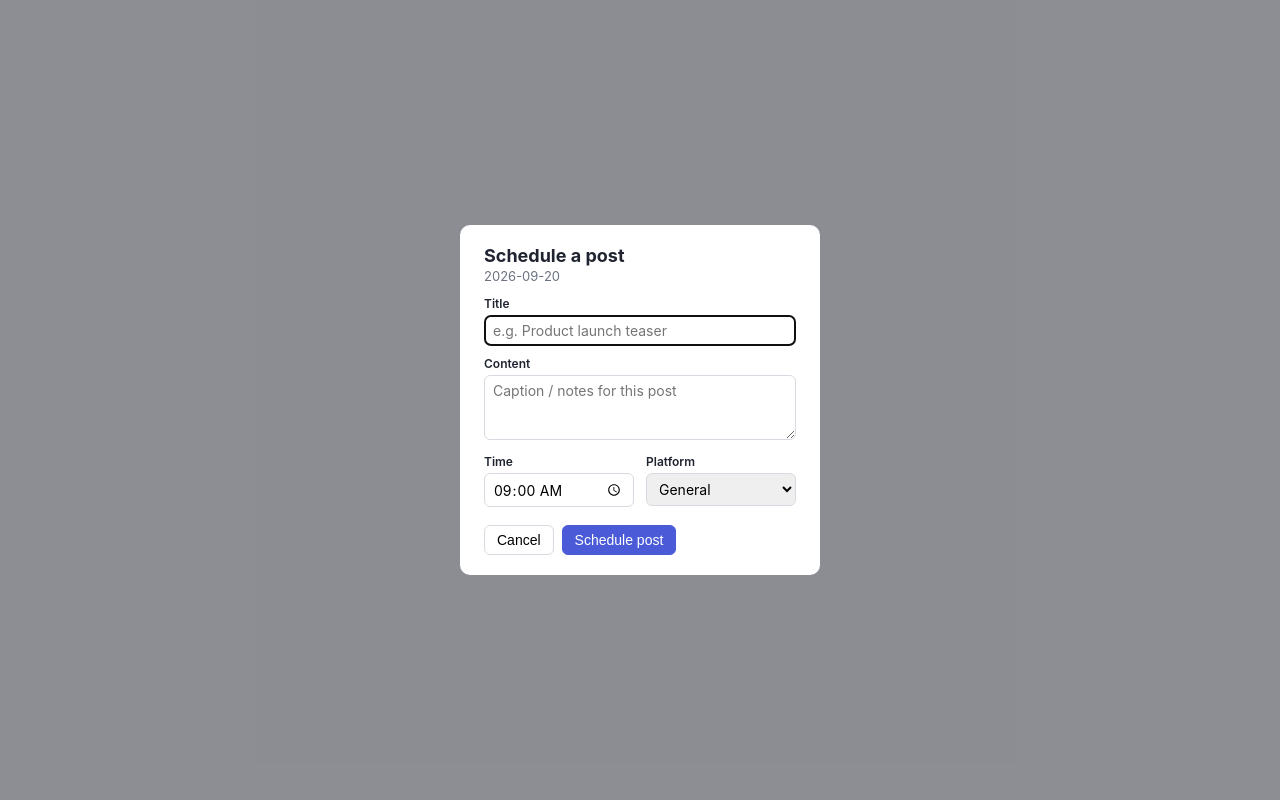
Test case: blocks submission and shows an error when the title is empty
Click the button "Schedule post". click: [619, 540]
box: [562,525,676,555]
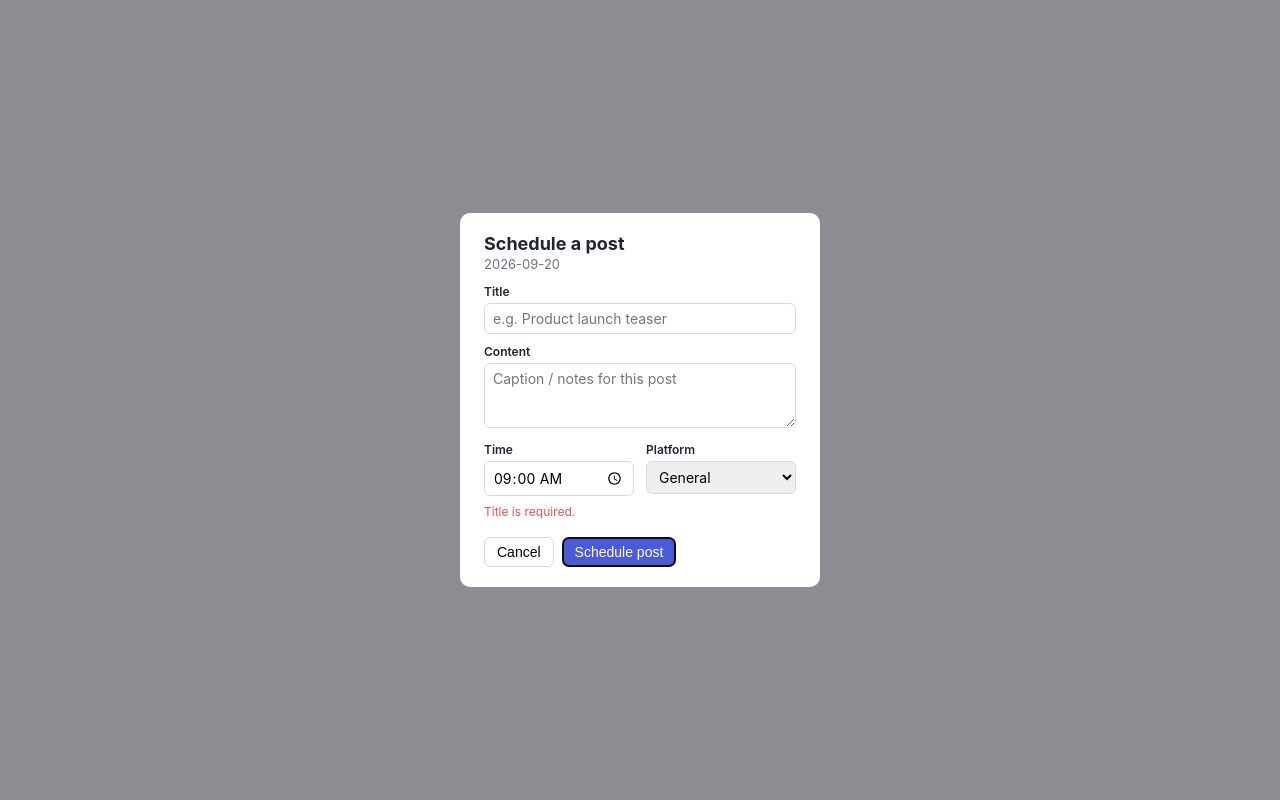
Check: the text "Title is required." is shown, box [484,504,575,519]
